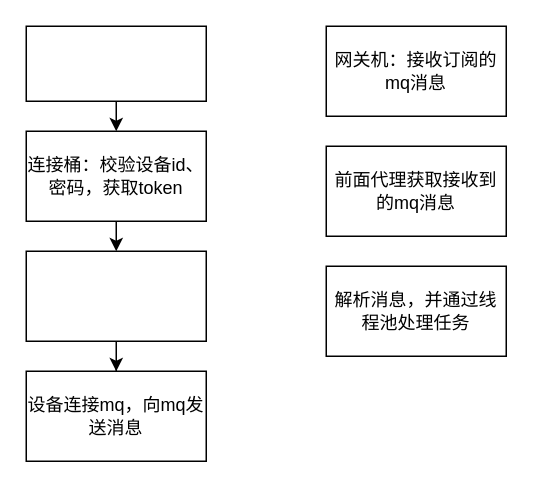
Some shapes in this 533 by 488 pixel diagram are drawn without their labels. Each missing label, with the centre of its shape:
设备登录: the point at 115,63
连接桶：获取连接可用信息，并使用可用信息获取连接: the point at 115,295
